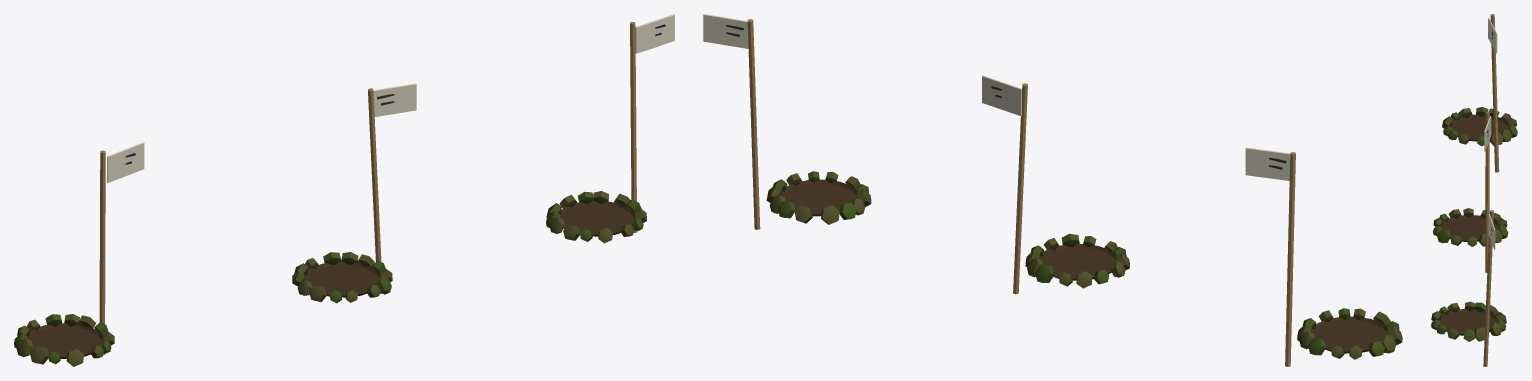
File: e39_samples.glb
The picture shows the model from 3 angles, left to right: view 1: azimuth 30°, elevation 25°; view 2: azimuth 150°, elevation 25°; view 3: azimuth 270°, elevation 25°; orthographic projection. The views are drawn at different scales.
Visible parts, largest first — view 1: teil0, teil2, teil3, teil4, teil1; view 2: teil0, teil2, teil3, teil4, teil1; view 3: teil0, teil2, teil3, teil1, teil4.
Part boxes in pixels (bbox=[...]): teil0: bbox=[27, 200, 634, 358]; teil2: bbox=[16, 191, 646, 366]; teil3: bbox=[99, 22, 637, 355]; teil4: bbox=[107, 14, 674, 182]; teil1: bbox=[14, 191, 643, 364]; teil0: bbox=[780, 179, 1387, 353]; teil2: bbox=[766, 172, 1402, 359]; teil3: bbox=[747, 19, 1295, 366]; teil4: bbox=[703, 14, 1290, 180]; teil1: bbox=[773, 171, 1399, 356]; teil0: bbox=[1438, 114, 1507, 335]; teil2: bbox=[1431, 107, 1516, 341]; teil3: bbox=[1483, 14, 1499, 366]; teil1: bbox=[1436, 108, 1517, 341]; teil4: bbox=[1484, 18, 1497, 249].
Bounding box in the file's own units: 0.6781 × 0.2003 × 0.1009.
